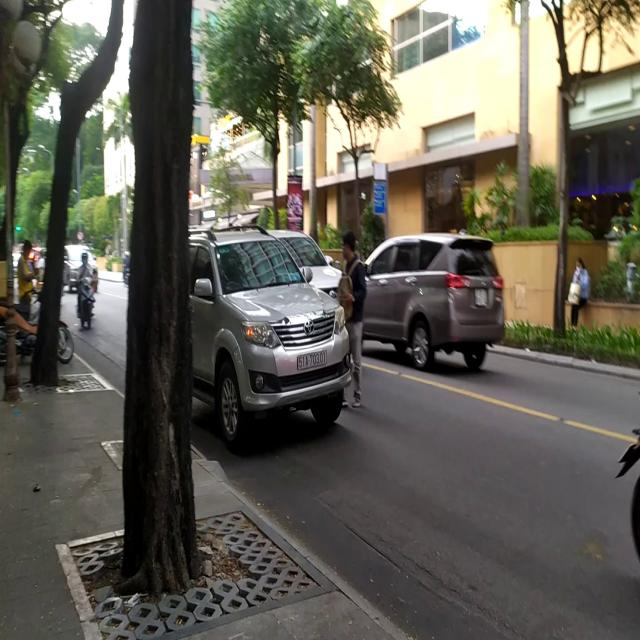bien_trang: (297, 348, 329, 372)
